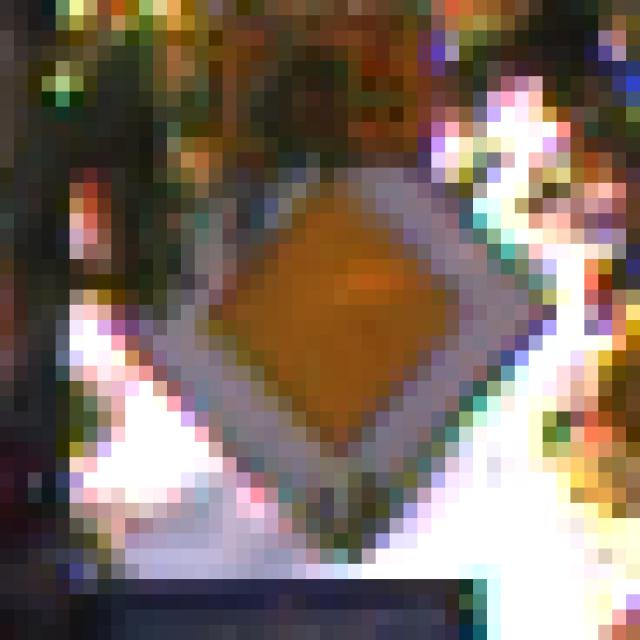Main Road: (71, 93, 572, 550)
